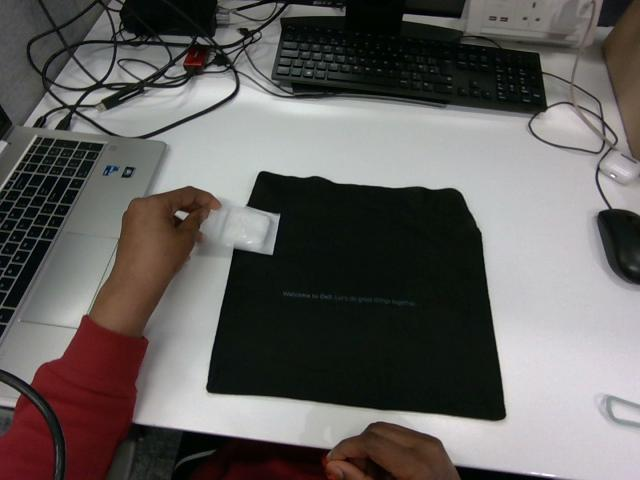gauze: (203, 206, 279, 254)
